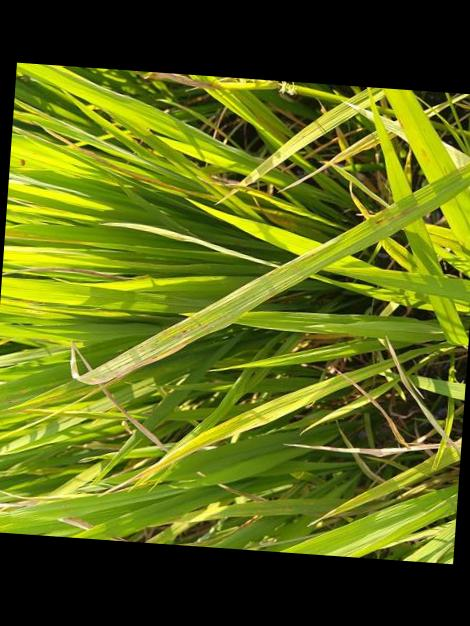Leaf Streak: (71, 310, 222, 384), (375, 207, 415, 224)
